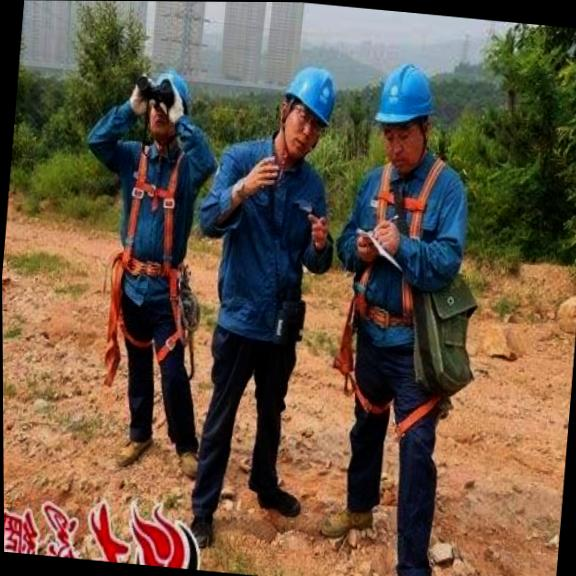no_safety_vest: (327, 150, 477, 353), (196, 133, 339, 343), (99, 131, 216, 293)
